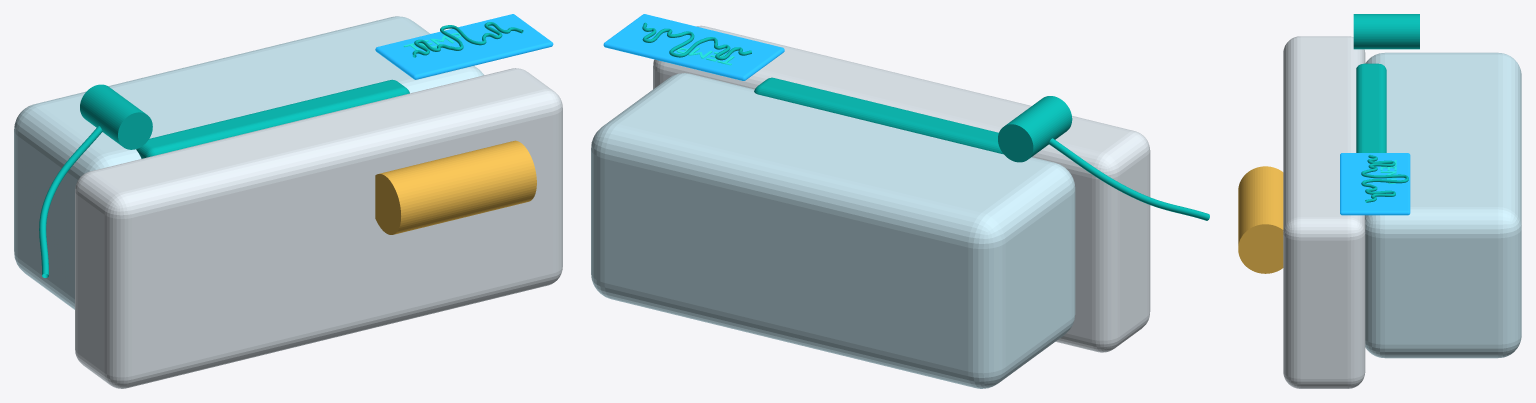
Rendered from neonatal-incubator.glb.
3 views of the same model, side by side, from view 1: azimuth 30°, elevation 25°; view 2: azimuth 150°, elevation 25°; view 3: azimuth 270°, elevation 25° (orthographic). The views are drawn at different scales.
Parts seen in each view (by area): view 1: base warmer, polycarbonate canopy, heater element, temperature console, mattress, skin probe, probe cable, screen waveform; view 2: polycarbonate canopy, base warmer, temperature console, mattress, skin probe, probe cable, screen waveform; view 3: polycarbonate canopy, base warmer, heater element, temperature console, mattress, skin probe, screen waveform.
Boxes of the visible parts, x1=… form: base warmer: x1=75, y1=68, x2=562, y2=388; polycarbonate canopy: x1=14, y1=16, x2=484, y2=309; heater element: x1=375, y1=140, x2=536, y2=234; temperature console: x1=375, y1=14, x2=553, y2=79; mattress: x1=136, y1=79, x2=409, y2=158; skin probe: x1=80, y1=84, x2=152, y2=149; probe cable: x1=39, y1=125, x2=102, y2=277; screen waveform: x1=412, y1=22, x2=523, y2=57; polycarbonate canopy: x1=591, y1=73, x2=1075, y2=388; base warmer: x1=653, y1=25, x2=1150, y2=352; temperature console: x1=603, y1=14, x2=784, y2=80; mattress: x1=754, y1=77, x2=1003, y2=154; skin probe: x1=998, y1=96, x2=1072, y2=162; probe cable: x1=1048, y1=138, x2=1209, y2=220; screen waveform: x1=642, y1=22, x2=751, y2=60; polycarbonate canopy: x1=1365, y1=52, x2=1521, y2=358; base warmer: x1=1283, y1=36, x2=1365, y2=388; heater element: x1=1238, y1=166, x2=1283, y2=273; temperature console: x1=1340, y1=153, x2=1410, y2=215; mattress: x1=1356, y1=63, x2=1386, y2=152; skin probe: x1=1353, y1=14, x2=1419, y2=49; screen waveform: x1=1361, y1=155, x2=1408, y2=202.
Bounding box in the file's own units: 2.75 × 1.19 × 1.45.
